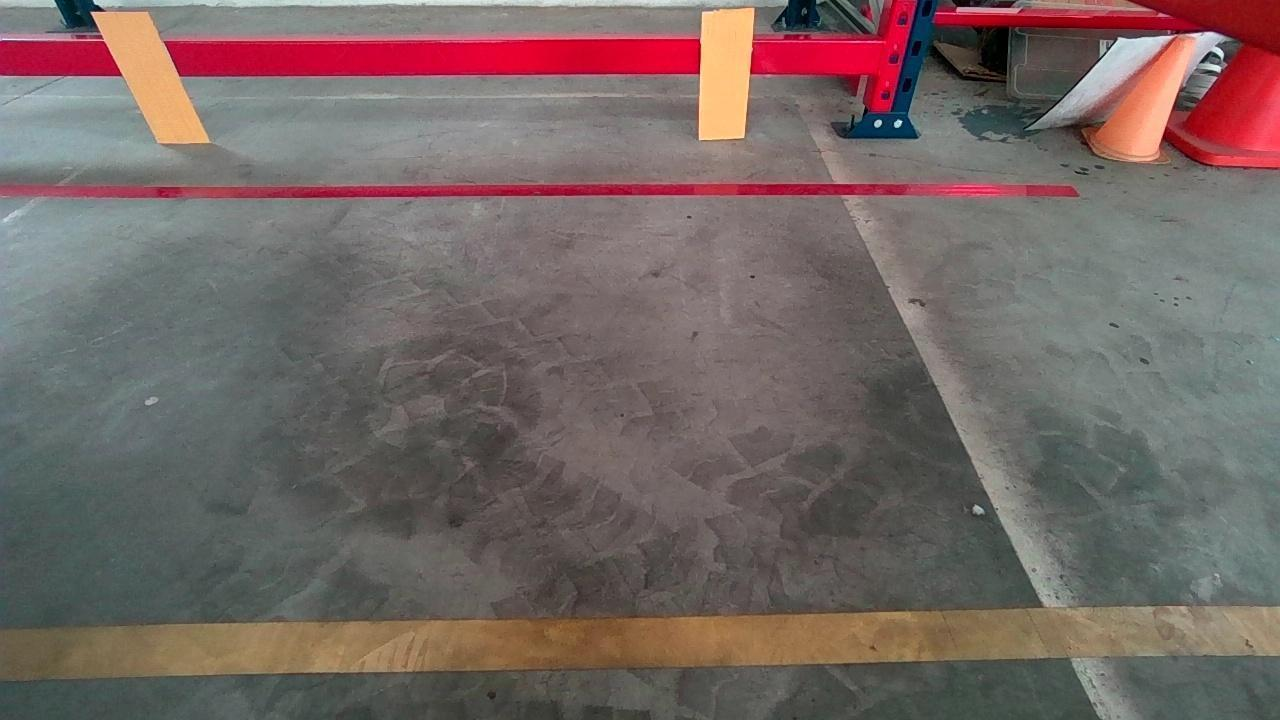red_line: (12, 178, 1056, 202)
